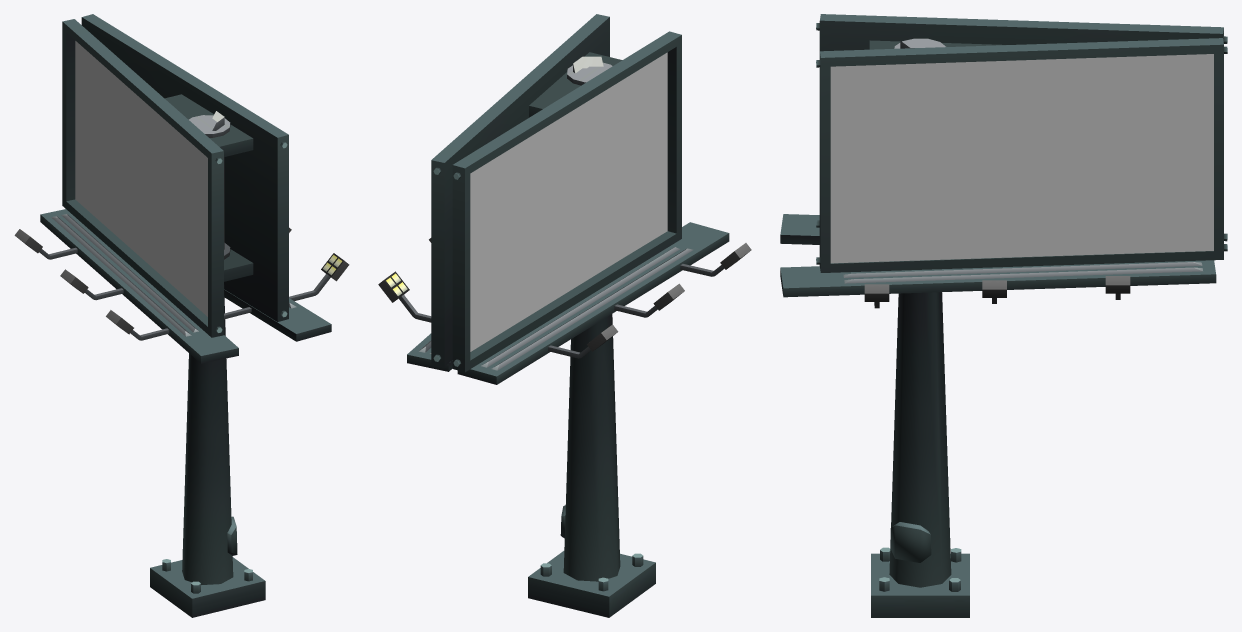
Rendered from tahan.fbx.
The picture shows the model from 3 angles, left to right: view 1: azimuth 30°, elevation 25°; view 2: azimuth 150°, elevation 25°; view 3: azimuth 270°, elevation 25°; orthographic projection. The views are drawn at different scales.
Parts seen in each view (by area): view 1: Billboard_4, banner_4; view 2: Billboard_4, banner_4; view 3: banner_1, Billboard_4.
Boxes of the visible parts, left/top/right/bottom form: Billboard_4: left=14, top=14, right=349, bottom=617; banner_4: left=75, top=41, right=207, bottom=316; Billboard_4: left=378, top=14, right=751, bottom=617; banner_4: left=470, top=52, right=667, bottom=351; banner_1: left=830, top=54, right=1213, bottom=263; Billboard_4: left=780, top=14, right=1227, bottom=617.
Bounding box in the file's own units: 196 × 382 × 276.
